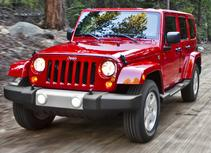front_view: (2, 50, 145, 115)
headlight: (97, 59, 119, 92)
side_glass: (160, 10, 198, 43)
